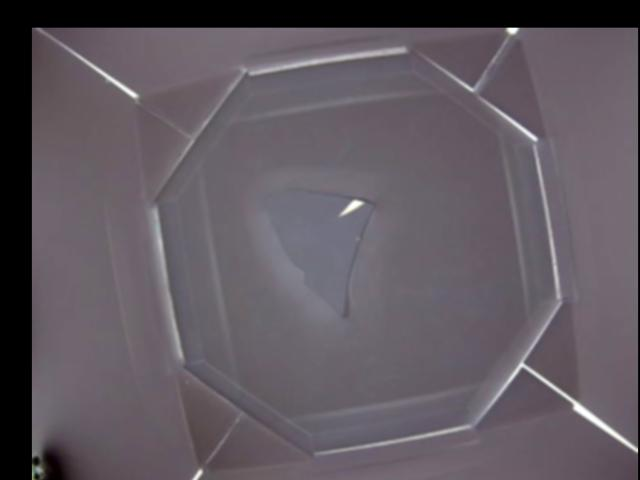China: (260, 186, 373, 316)
